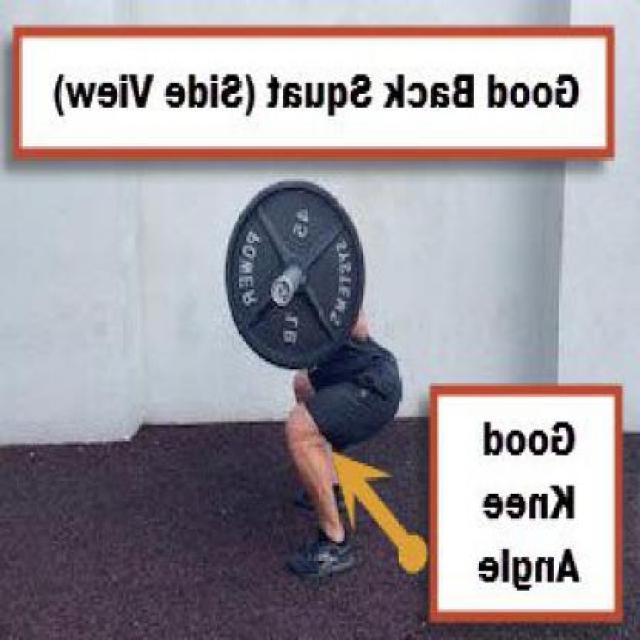Barbell: (268, 274, 296, 310)
